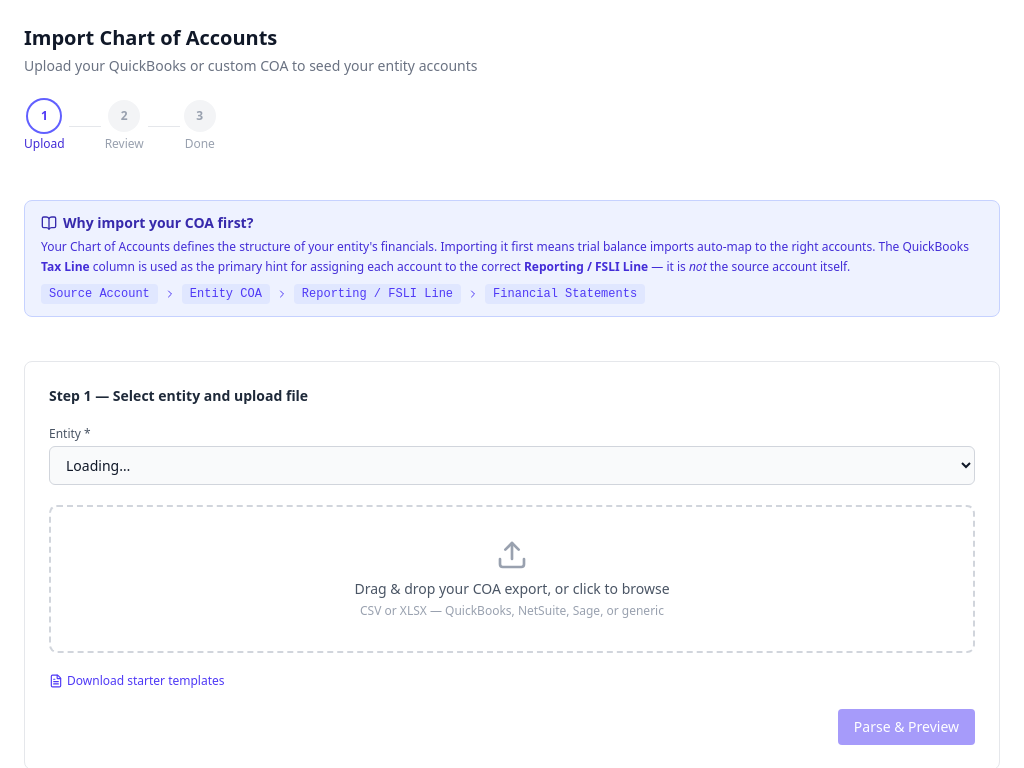
COAImportPage — M32 › shows starter template toggle and expands templates
Click the button "Download starter templates" at (137, 681), box [49,673,224,689]
(page scrolled)
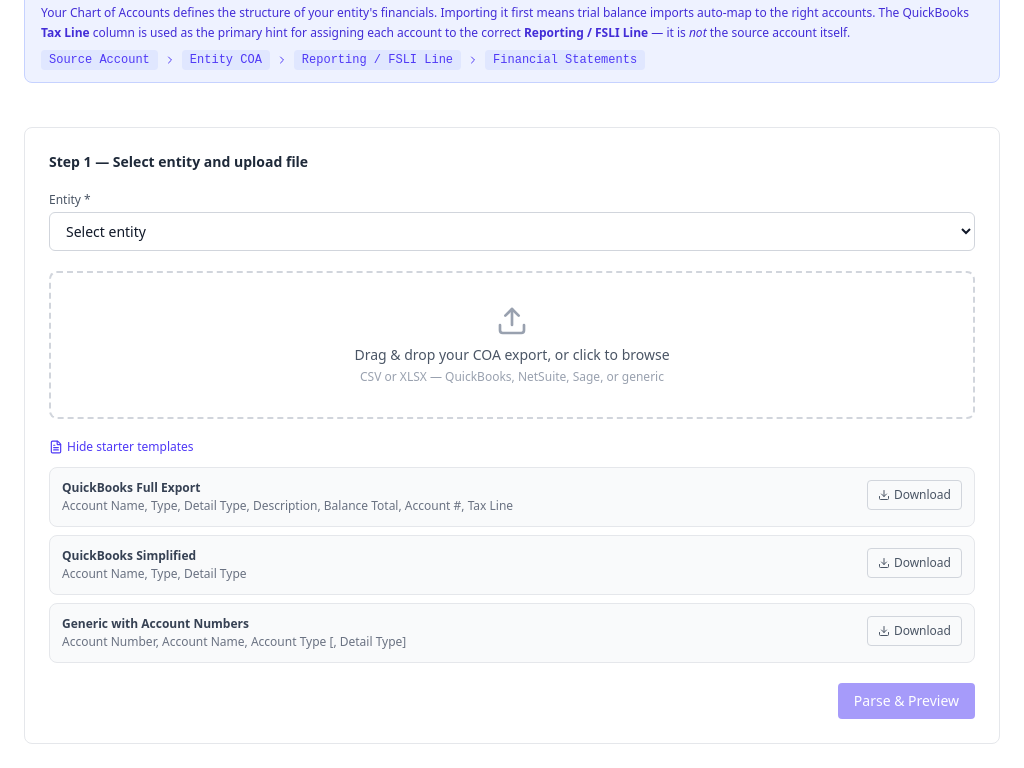
Expected: the text "QuickBooks Full Export" is shown, [62,479,200,496]
Expected: the text "QuickBooks Simplified" is shown, [62,547,196,564]
Expected: the text "Generic with Account Numbers" is shown, [62,615,249,632]
